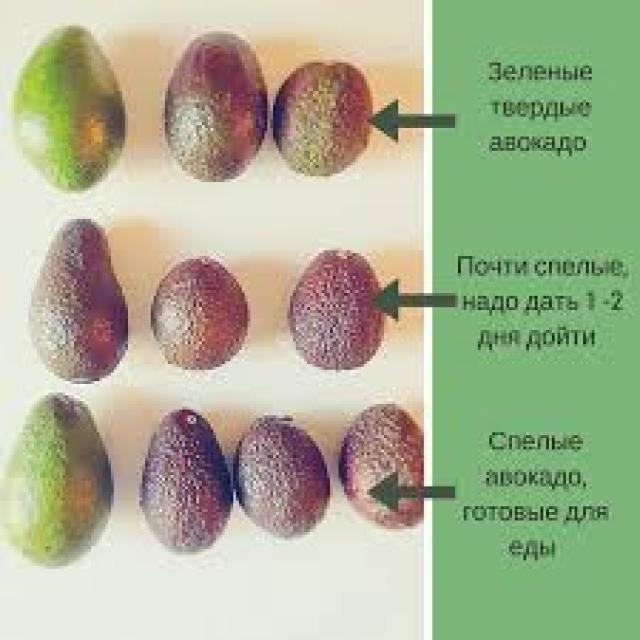avocado: (11, 13, 140, 203), (151, 21, 281, 205), (7, 224, 144, 382), (9, 391, 119, 585), (291, 238, 410, 376), (225, 405, 339, 548), (143, 408, 235, 582), (270, 43, 386, 175), (153, 253, 264, 378), (364, 399, 452, 533)
